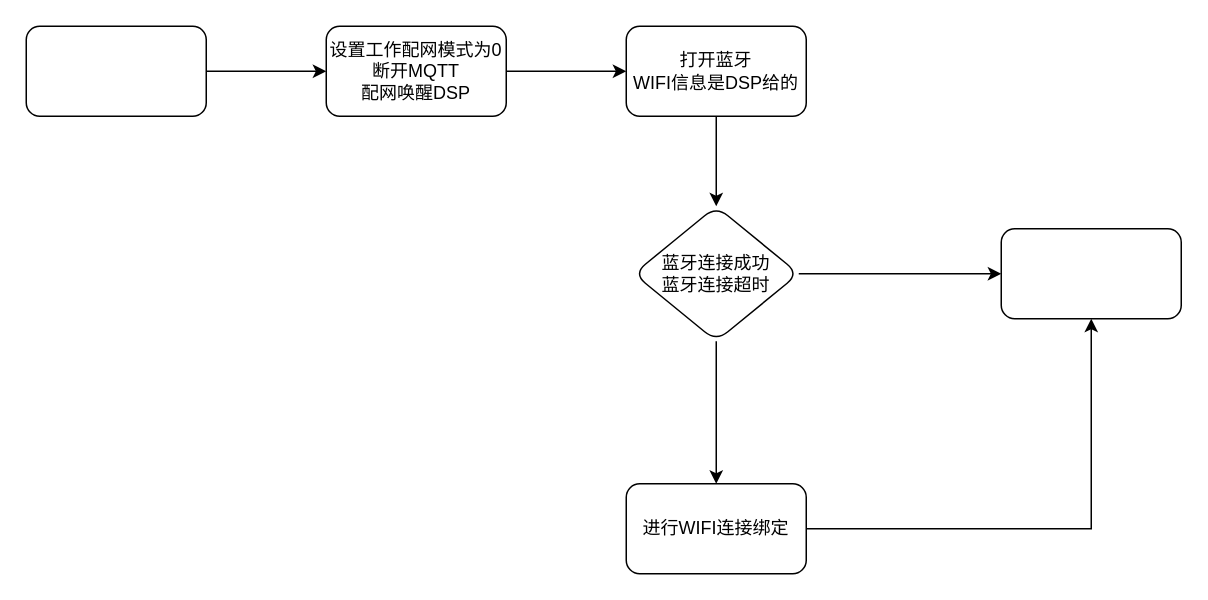
The diagram is 1208 pixels wide and 600 high, and some of its shapes have lost their labels. Each missing label, with the box of its shape:
DSP休眠判断工作配网模式为0，并存有配网信息就恢复: (1000, 227, 1181, 319)
收到锁端配网: (25, 25, 206, 116)
